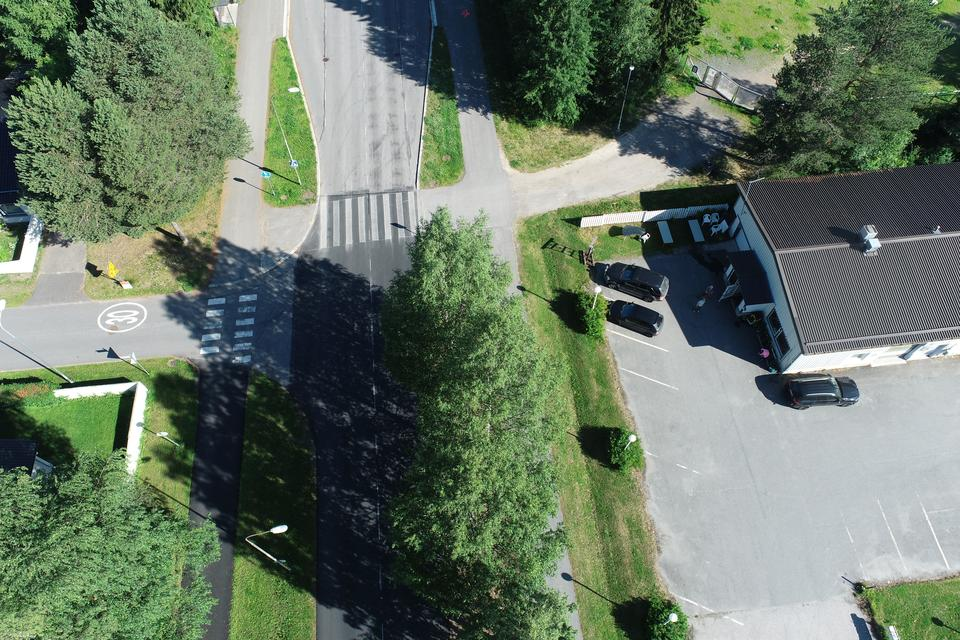intersection: (202, 138, 588, 254), (159, 275, 397, 404)
